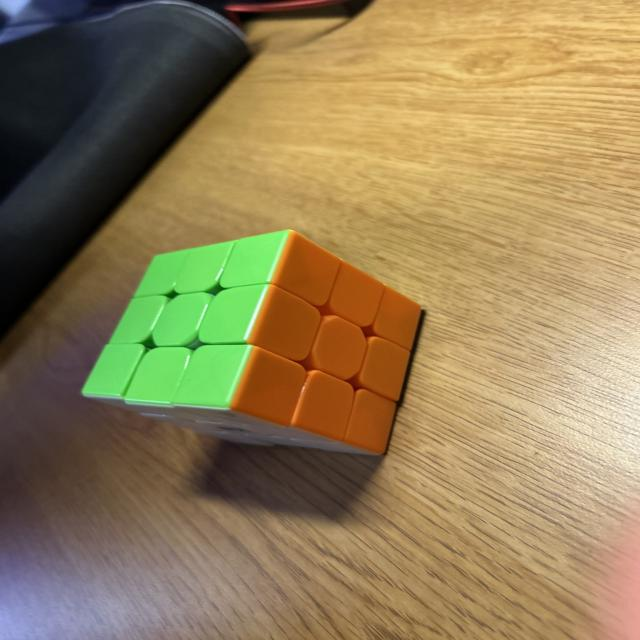Rubiks Cube: (81, 228, 423, 453)
